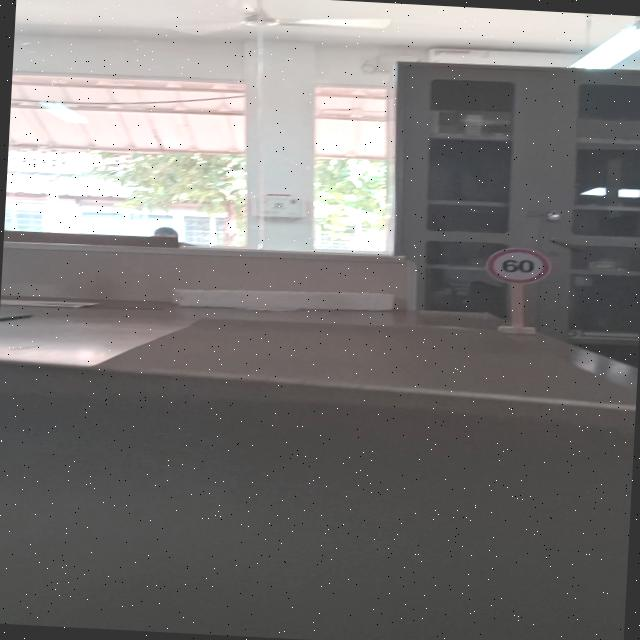Speed60: (485, 246, 554, 288)
